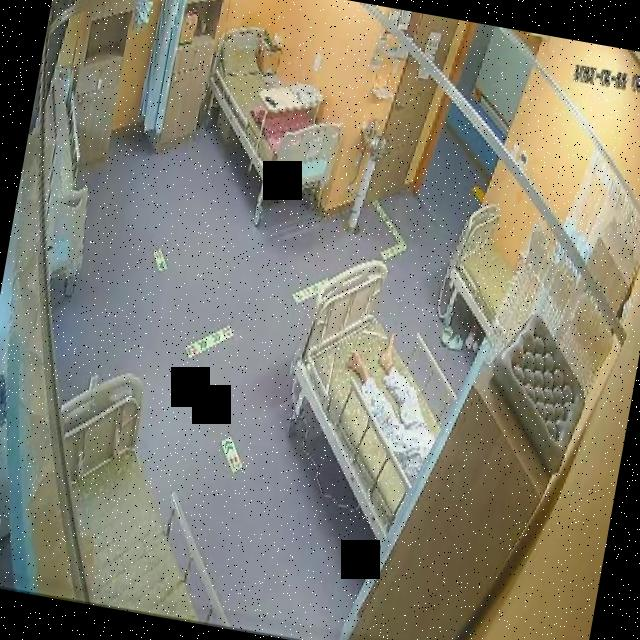bed: (26, 366, 268, 628), (266, 251, 468, 549), (185, 19, 358, 210), (439, 198, 524, 338)
lie: (329, 320, 452, 484)
patient: (328, 323, 451, 482)
